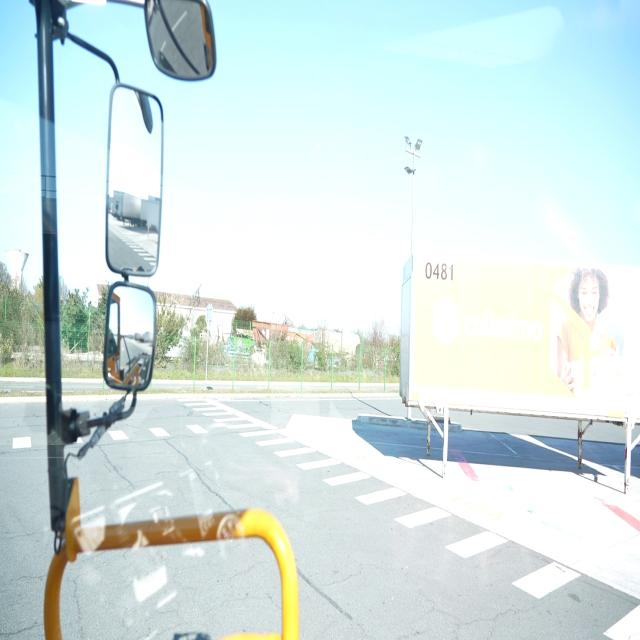Code: (421, 256, 459, 286)
